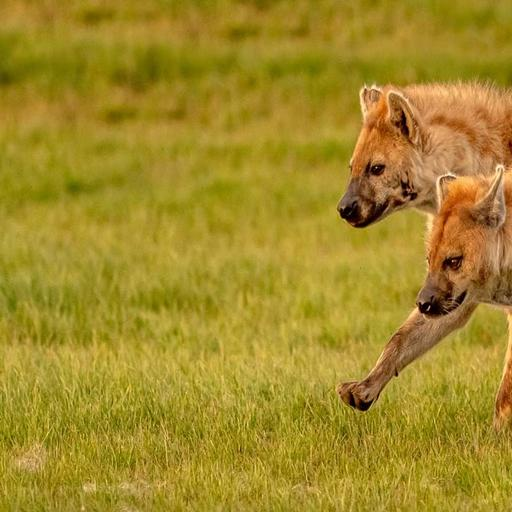Hyena: (330, 79, 512, 420), (415, 171, 512, 450)
